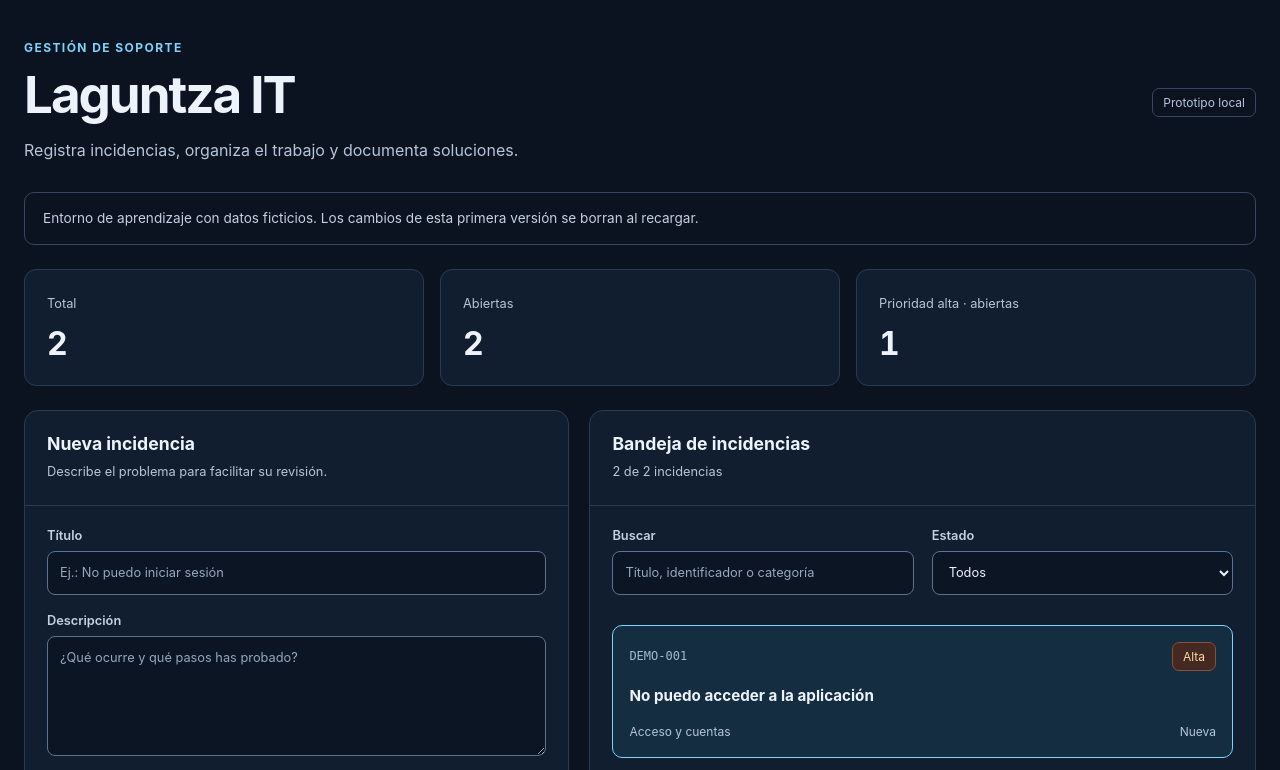
filtrar la bandeja › avisa cuando ninguna incidencia coincide
This screenshot has width=1280, height=770.
Step 1. Type "no existe" into the search field → (763, 573), box [612,551,914,595]
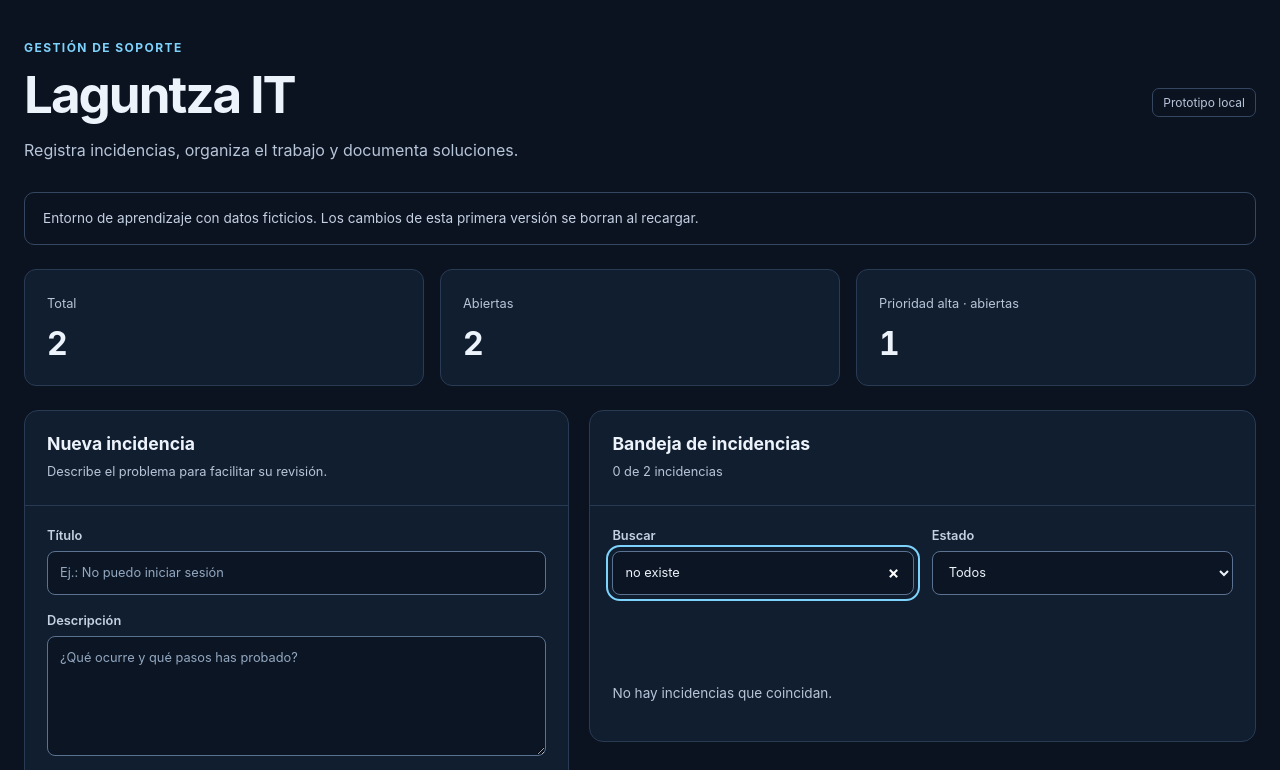
Check: the text "No hay incidencias que coincidan." is shown, box [612,685,832,701]
